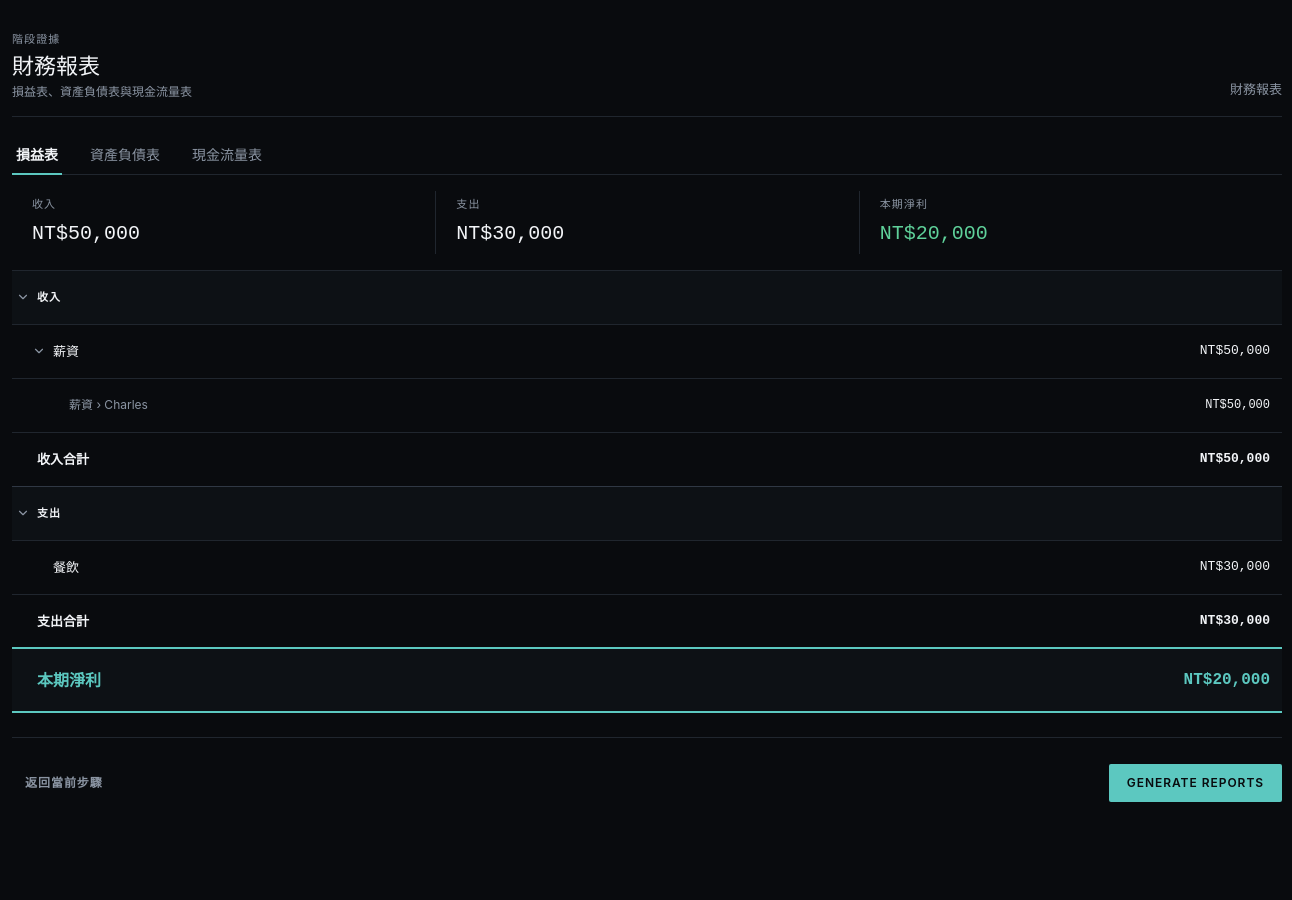
Test: CloseFinancialReports › collapses and expands a statement row from the left chevron
Click the button named "薪資". click: x=39, y=351
box: [29,341,49,361]
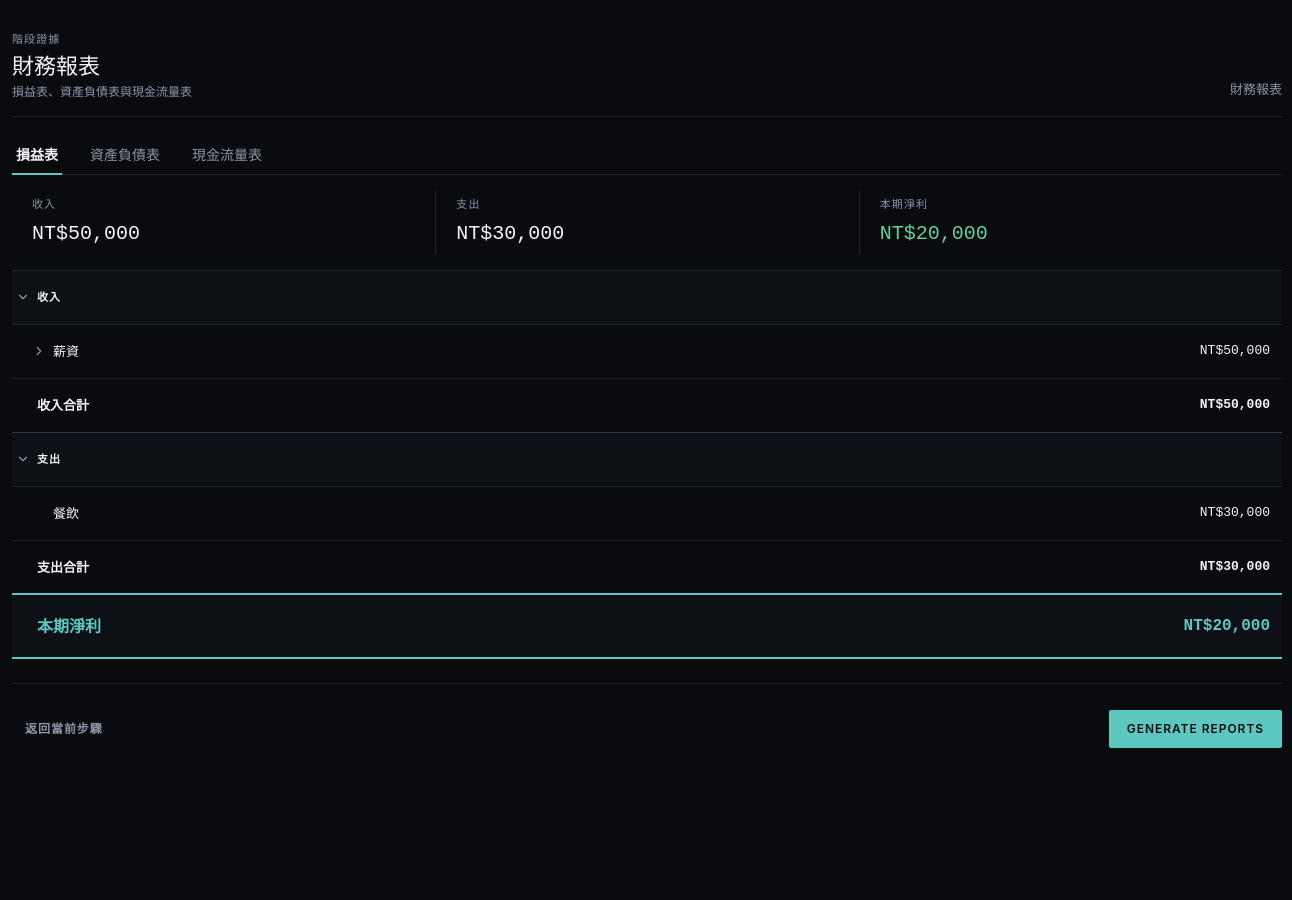
Check: the element with test id "close-income-statement" no longer shows "薪資 › Charles", box [12,191,1282,659]
Check: the button named "薪資" is collapsed
Click the button named "薪資". click: x=39, y=351
box: [29,341,49,361]
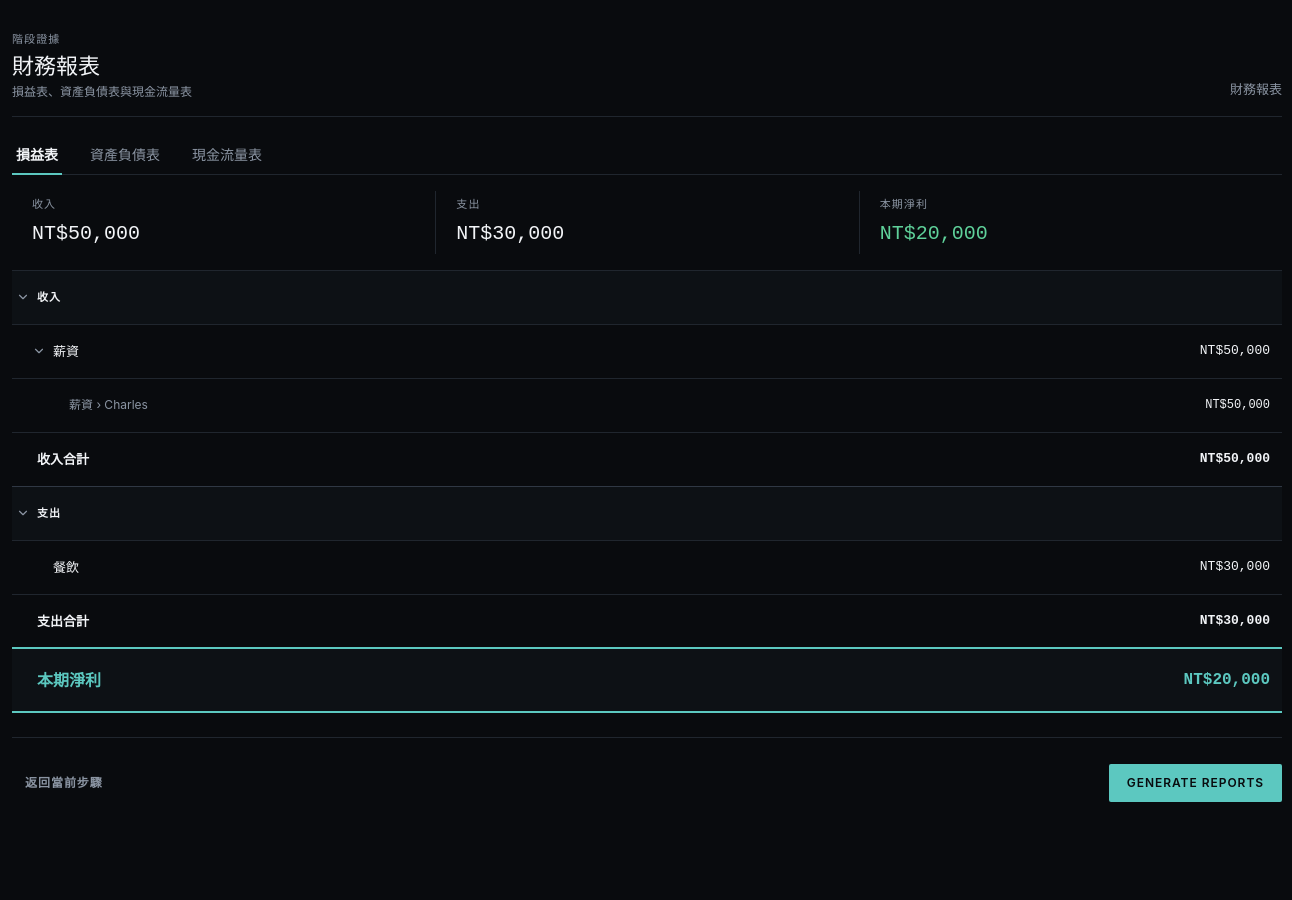
Check: the element with test id "close-income-statement" shows "薪資 › Charles", box [69,397,148,412]
